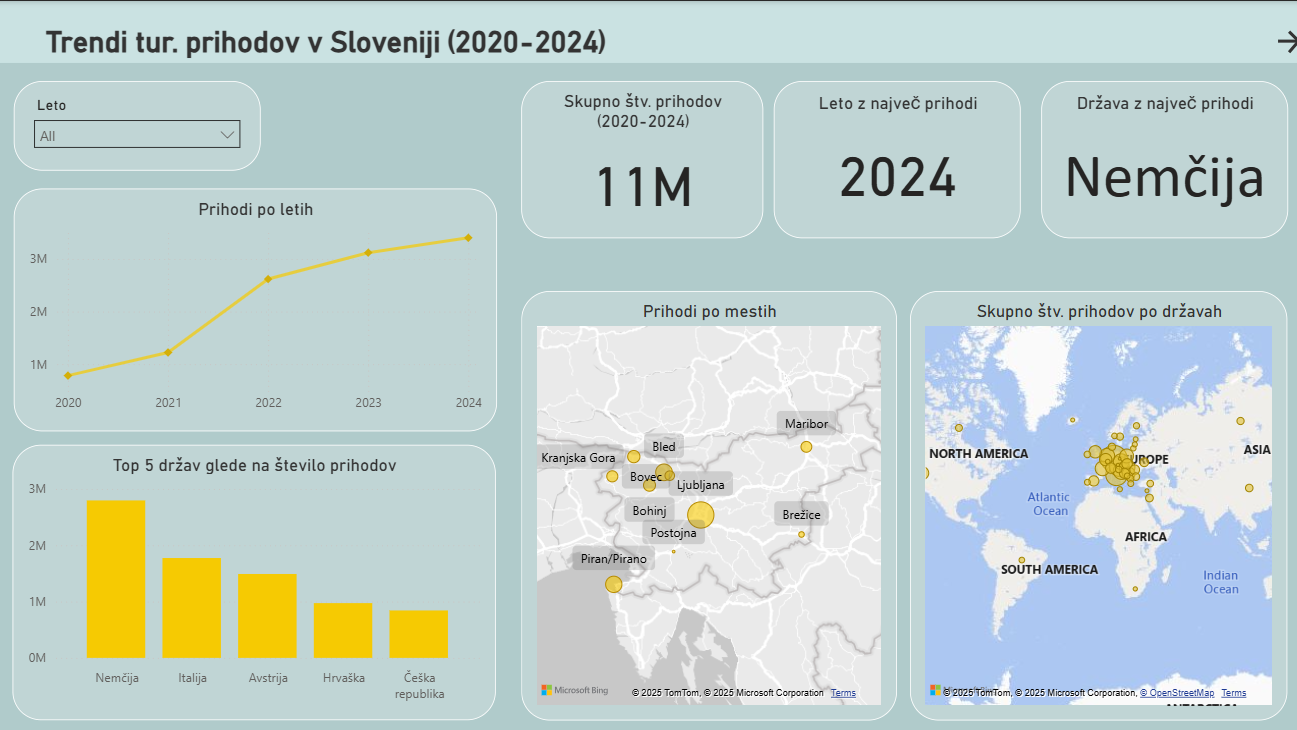

What the dashboard file says about the page in this screenshot:
{"tool":"powerbi","page":{"name":"Uvodna stran","canvas":[1280,720],"ordinal":0},"visuals":[{"type":"map","title":"Skupno štv. prihodov po državah","fields":{"Size":["Table1_1.Vrednosti"],"Category":["Table1_1.Država"]},"box":[893.4,285.2,370.5,421.3],"z":0},{"type":"map","title":"Prihodi po mestih","fields":{"Size":["Table1_1.Vrednosti"],"Category":["Table1_1.Občina"]},"box":[511.5,285.2,368.9,421.3],"z":1000},{"type":"lineChart","title":"Prihodi po letih","fields":{"Y":["Table1_1.Vrednosti"],"Category":["Table1_1.Year"]},"box":[14,184,474,238],"z":2000},{"type":"clusteredColumnChart","title":" Top 5 držav glede na število prihodov","fields":{"Y":["Table1_1.Vrednosti"],"Category":["Table1_1.Država"]},"box":[12,436,474,270],"z":3000},{"type":"card","title":"Država z največ prihodi","fields":{"Values":["Table1_1.DrzavaZNajvecPrihodi"]},"box":[1022,78,242,154],"z":4000},{"type":"textbox","box":[0,0,1280.3,60.7],"z":5000},{"type":"actionButton","box":[1249.2,24.6,31.1,31.1],"z":6000},{"type":"card","title":"Skupno štv. prihodov (2020-2024)","fields":{"Values":["Table1_1.Vrednosti"]},"box":[511.5,78.7,237.7,154.1],"z":7000},{"type":"card","title":"Leto z največ prihodi","fields":{"Values":["Table1_1.LetoZNajvecPrihodi"]},"box":[759,78.7,242.6,154.1],"z":8000},{"type":"slicer","title":"Leto z največ prihodi","fields":{"Values":["Table1_1.Leto"]},"box":[14,78,242,88],"z":9000}]}

Visuals, with their boxes in screenshot pixels (x1, y1, x2, y2), scaled from the page's 1280x720 canvas onto the 1297x730 screenshot:
"Skupno štv. prihodov po državah" map: {"left": 905, "top": 289, "right": 1281, "bottom": 716}
"Prihodi po mestih" map: {"left": 518, "top": 289, "right": 892, "bottom": 716}
"Prihodi po letih" lineChart: {"left": 14, "top": 187, "right": 494, "bottom": 428}
" Top 5 držav glede na število prihodov" clusteredColumnChart: {"left": 12, "top": 442, "right": 492, "bottom": 716}
"Država z največ prihodi" card: {"left": 1036, "top": 79, "right": 1281, "bottom": 235}
textbox: {"left": 0, "top": 0, "right": 1296, "bottom": 62}
actionButton: {"left": 1266, "top": 25, "right": 1296, "bottom": 56}
"Skupno štv. prihodov (2020-2024)" card: {"left": 518, "top": 80, "right": 759, "bottom": 236}
"Leto z največ prihodi" card: {"left": 769, "top": 80, "right": 1015, "bottom": 236}
"Leto z največ prihodi" slicer: {"left": 14, "top": 79, "right": 259, "bottom": 168}
